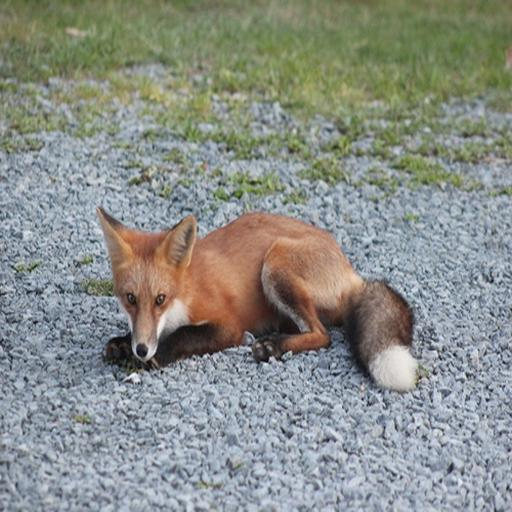Fox: (75, 204, 426, 396)
